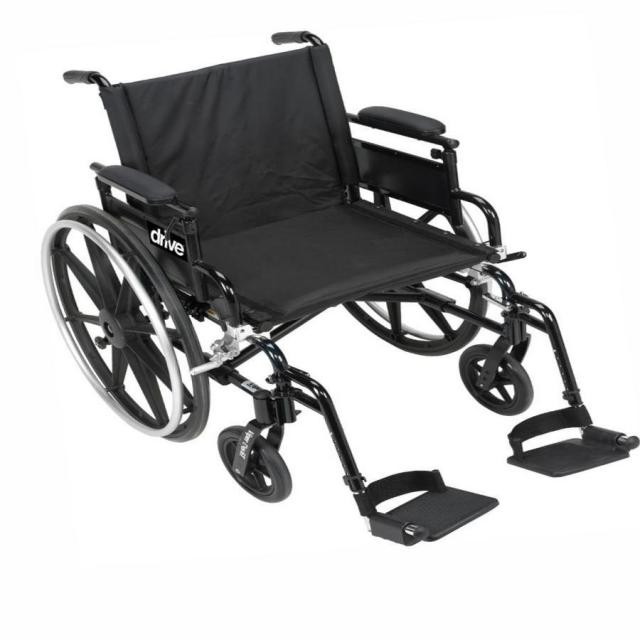wheelchair: (29, 18, 640, 565)
